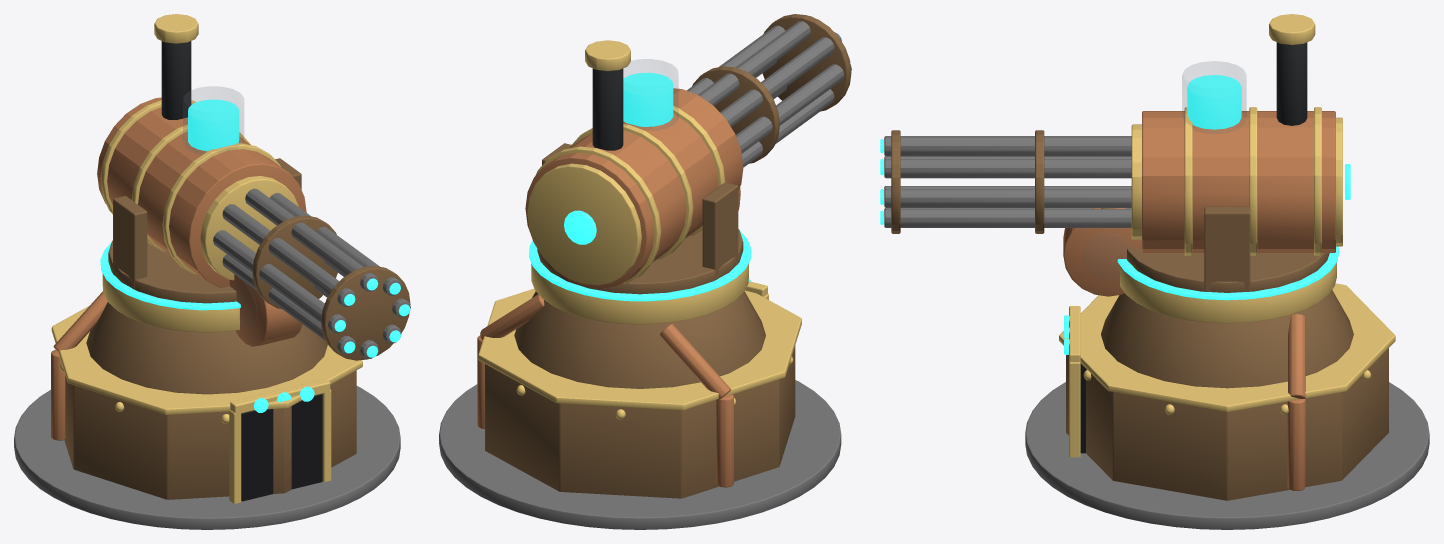
Rendered from GooGun_T3_Pepperbox.glb.
The picture shows the model from 3 angles, left to right: view 1: azimuth 30°, elevation 25°; view 2: azimuth 150°, elevation 25°; view 3: azimuth 270°, elevation 25°; orthographic projection. The views are drawn at different scales.
Parts seen in each view (by area): view 1: GooGun_T3_Pepperbox_Base, GooGun_T3_Pepperbox_Turret; view 2: GooGun_T3_Pepperbox_Base, GooGun_T3_Pepperbox_Turret; view 3: GooGun_T3_Pepperbox_Base, GooGun_T3_Pepperbox_Turret.
Boxes of the visible parts, box(x1,y1,x2,y2) form: GooGun_T3_Pepperbox_Base: box(14, 242, 400, 529); GooGun_T3_Pepperbox_Turret: box(97, 14, 410, 360); GooGun_T3_Pepperbox_Base: box(439, 230, 841, 529); GooGun_T3_Pepperbox_Turret: box(525, 14, 851, 294); GooGun_T3_Pepperbox_Base: box(1025, 246, 1429, 529); GooGun_T3_Pepperbox_Turret: box(880, 14, 1350, 296).
Bounding box in the file's own units: 3.5 × 4.03 × 4.75.
